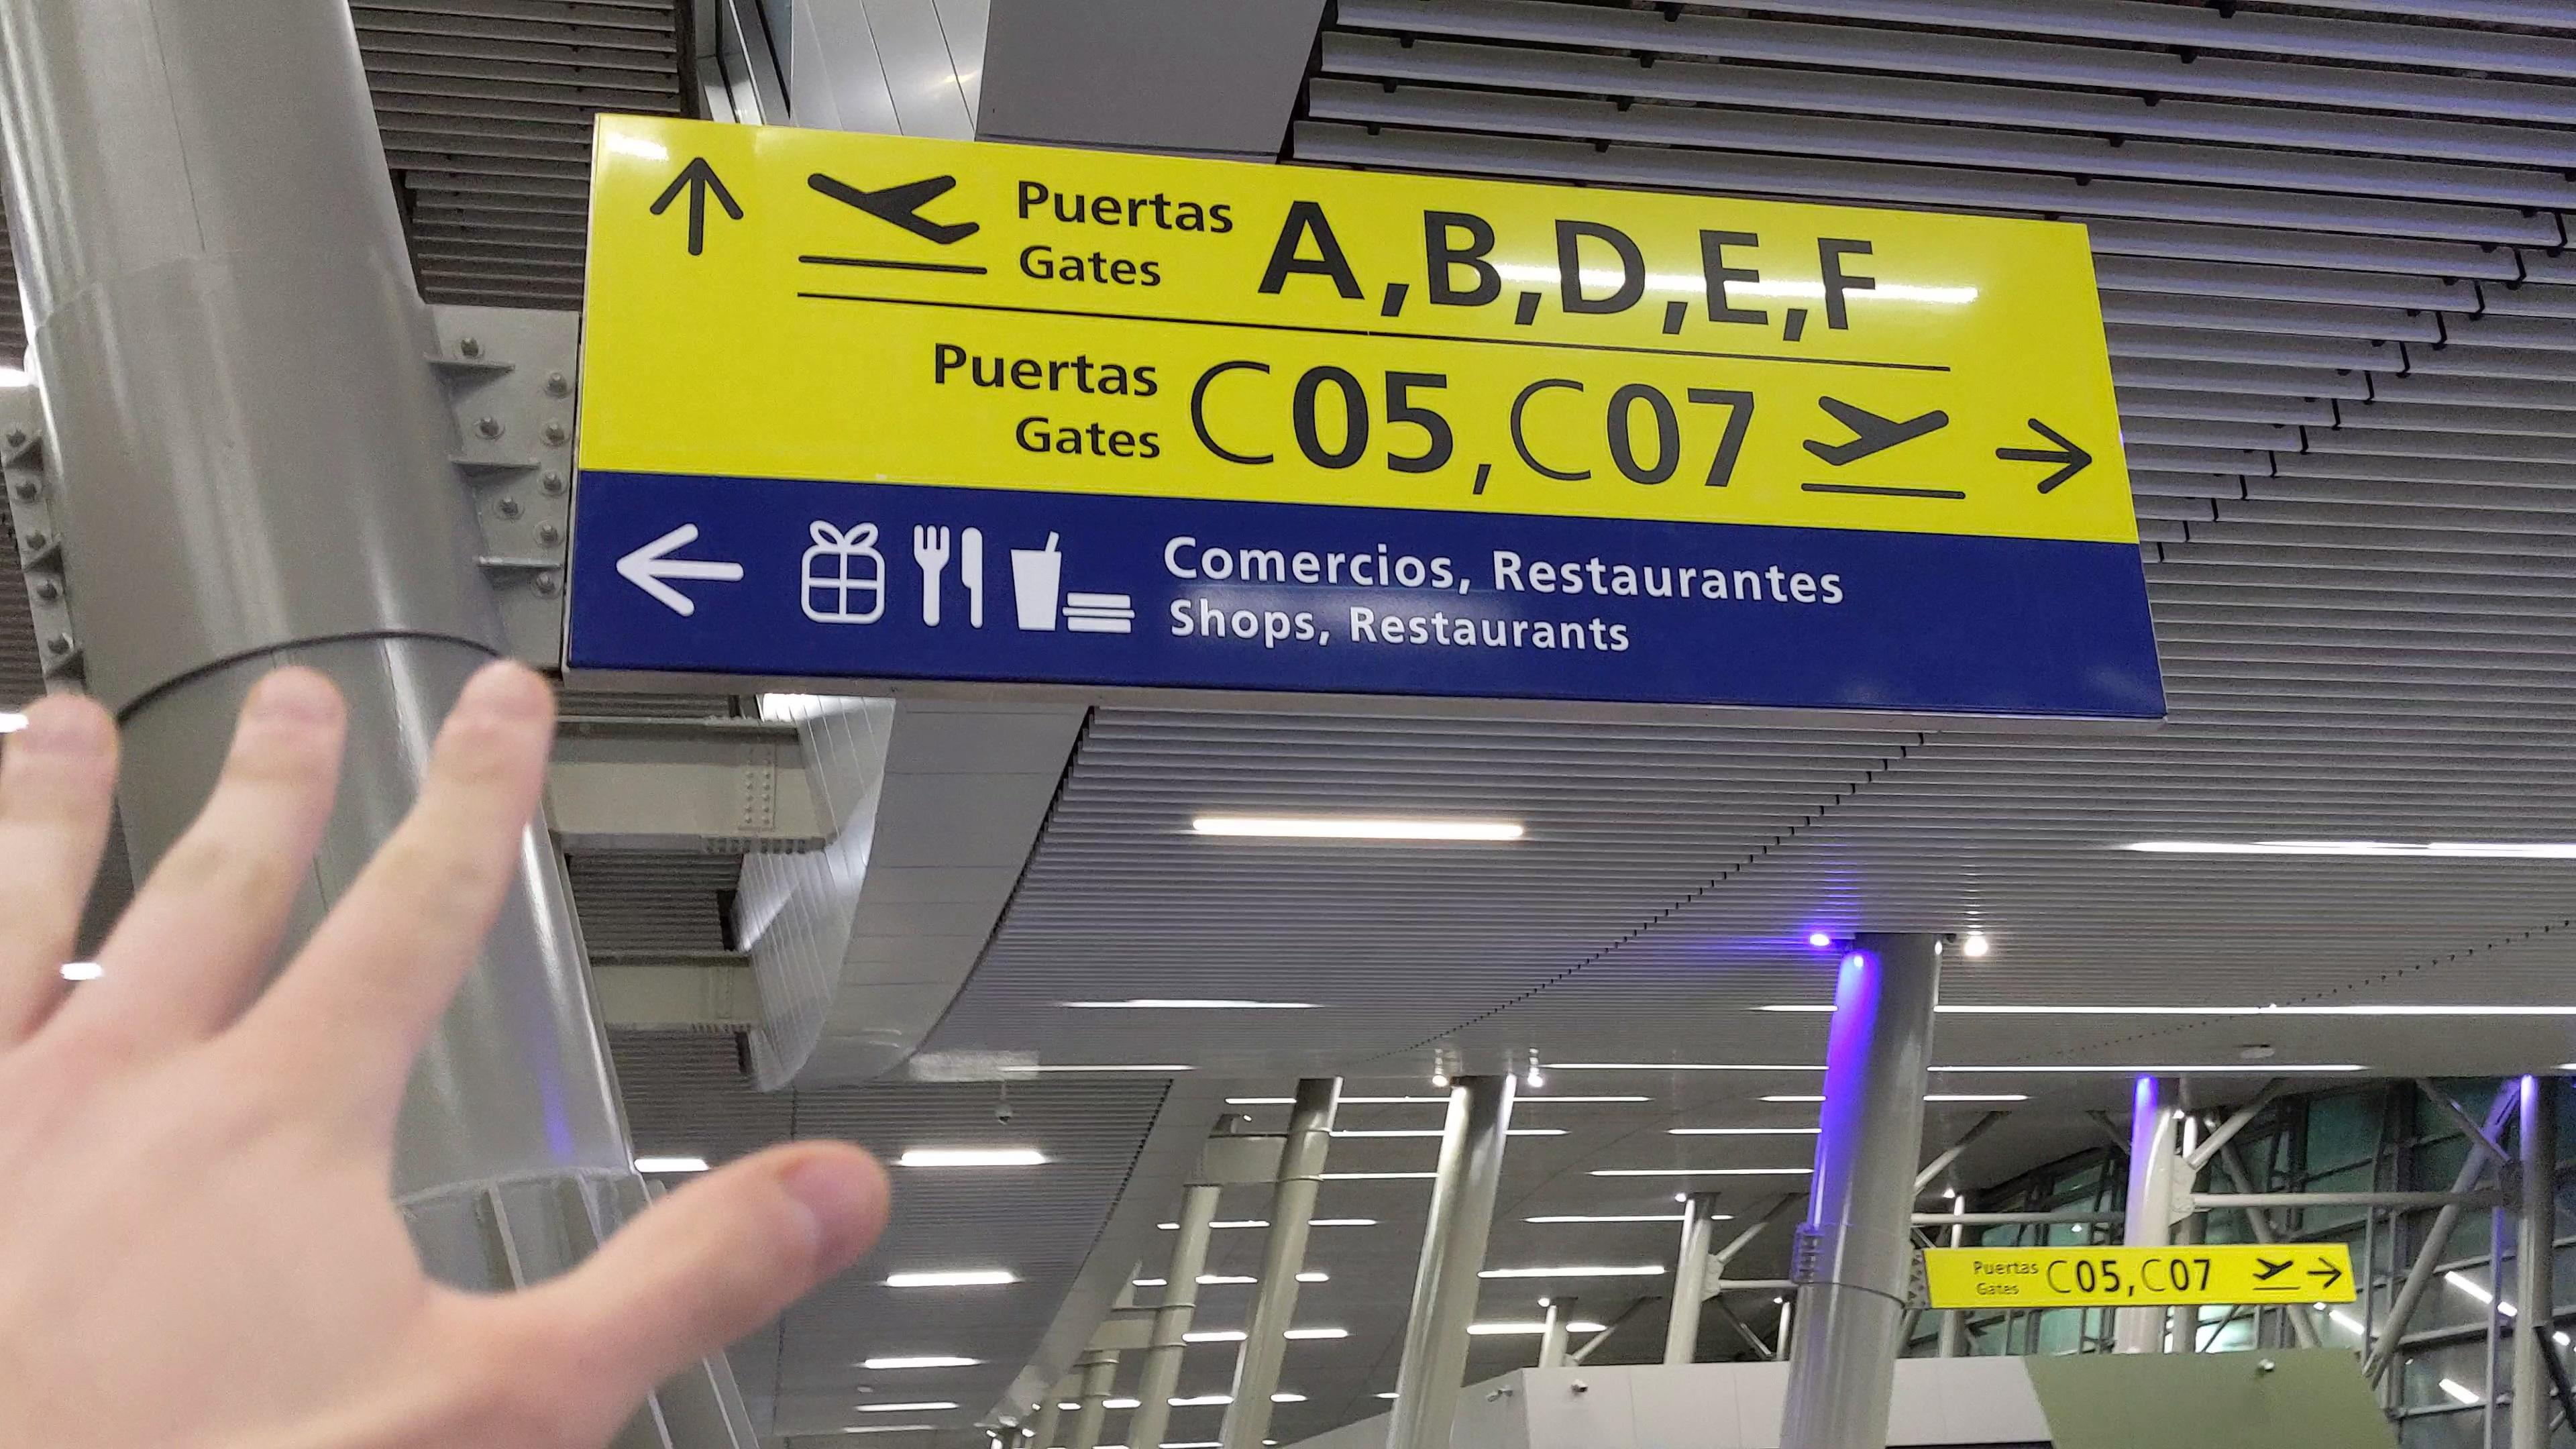airplane symbol: (803, 159, 989, 258), (1790, 395, 1955, 464), (2249, 1256, 2302, 1281)
bathrooms: (906, 524, 993, 630)
thin left arrow: (614, 524, 761, 623)
thin right arrow: (1976, 419, 2111, 494), (2304, 1254, 2346, 1293)
thin up arrow: (649, 150, 748, 258)
